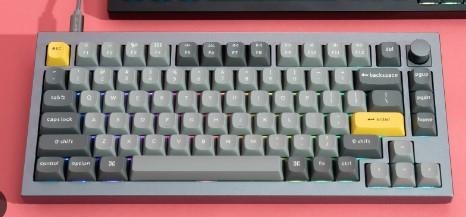Keyboard: (21, 32, 453, 198)
